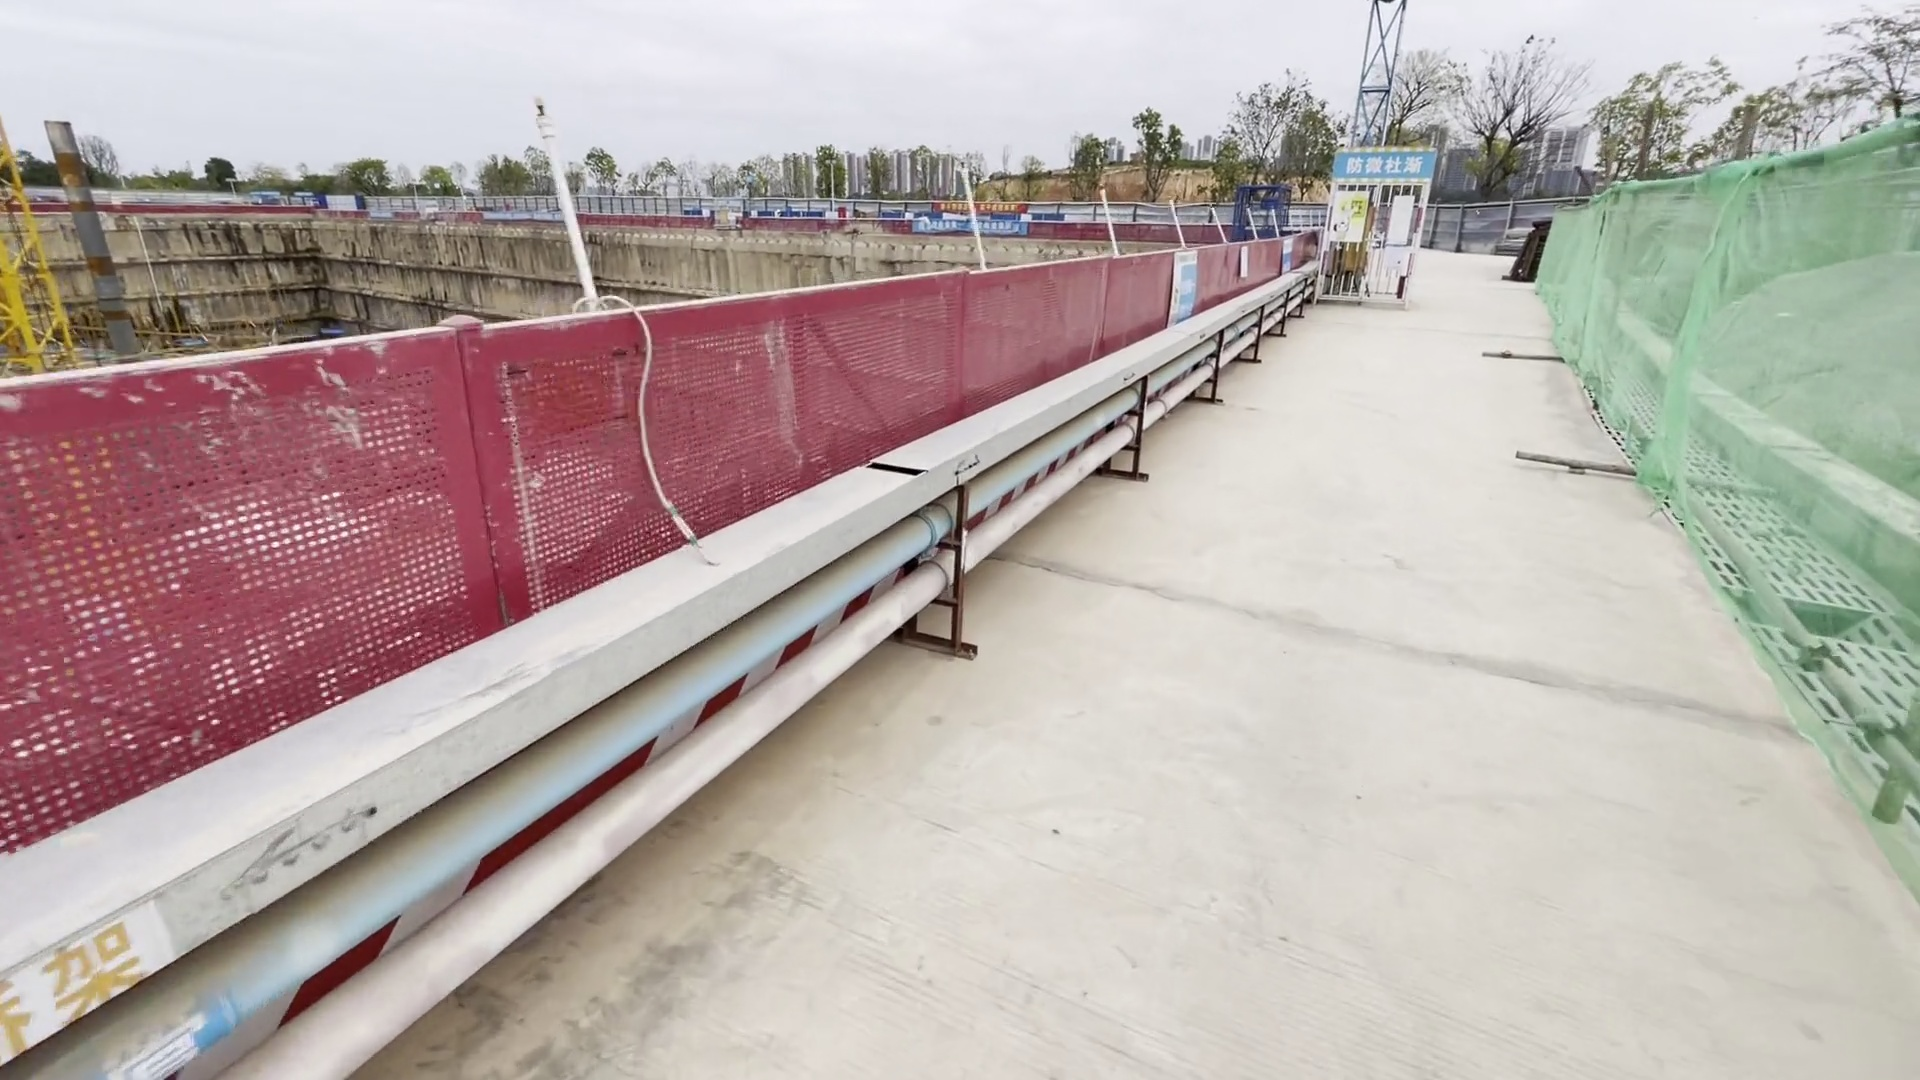fence: (1, 241, 1305, 872)
slogan: (923, 199, 1031, 229), (1346, 146, 1422, 179)
